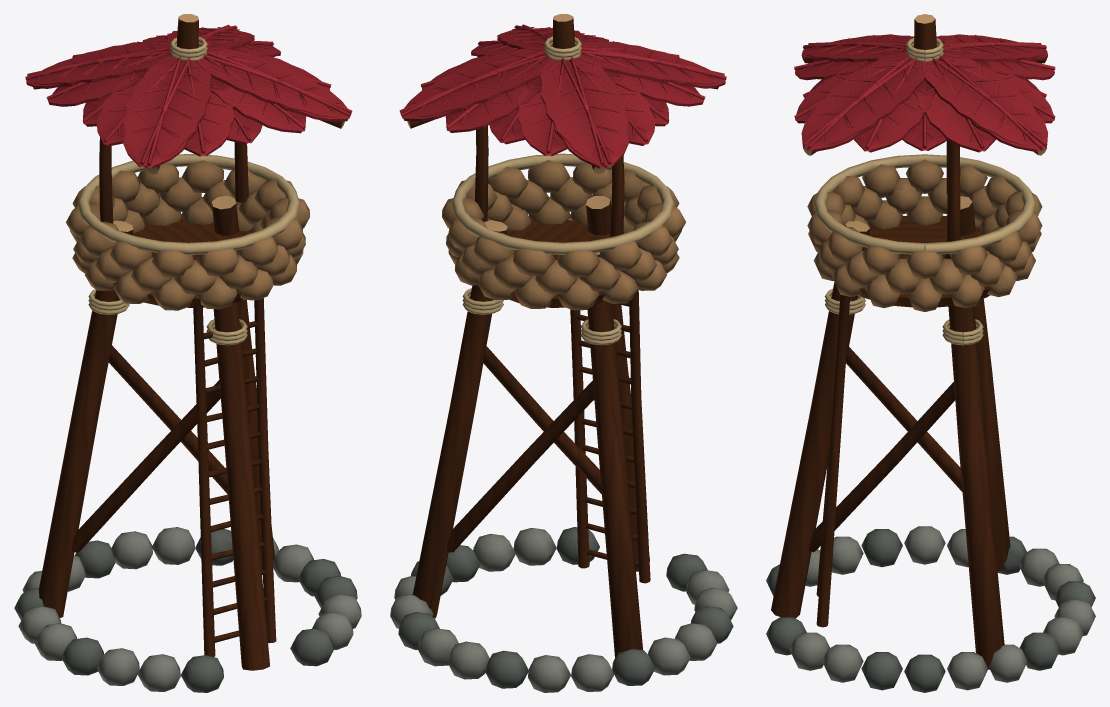
The picture shows the model from 3 angles, left to right: view 1: azimuth 30°, elevation 25°; view 2: azimuth 150°, elevation 25°; view 3: azimuth 270°, elevation 25°; orthographic projection.
Parts seen in each view (by area): view 1: canopy-watchtower · evaluated preview mesh; view 2: canopy-watchtower · evaluated preview mesh; view 3: canopy-watchtower · evaluated preview mesh.
Boxes of the visible parts, left/top/right/bottom form: canopy-watchtower · evaluated preview mesh: left=14, top=14, right=361, bottom=692; canopy-watchtower · evaluated preview mesh: left=390, top=14, right=737, bottom=692; canopy-watchtower · evaluated preview mesh: left=766, top=14, right=1095, bottom=692.
Size of the model in its own units: 4.23 by 8.19 by 4.02.
Materials: 8 (3 with a texture image).
